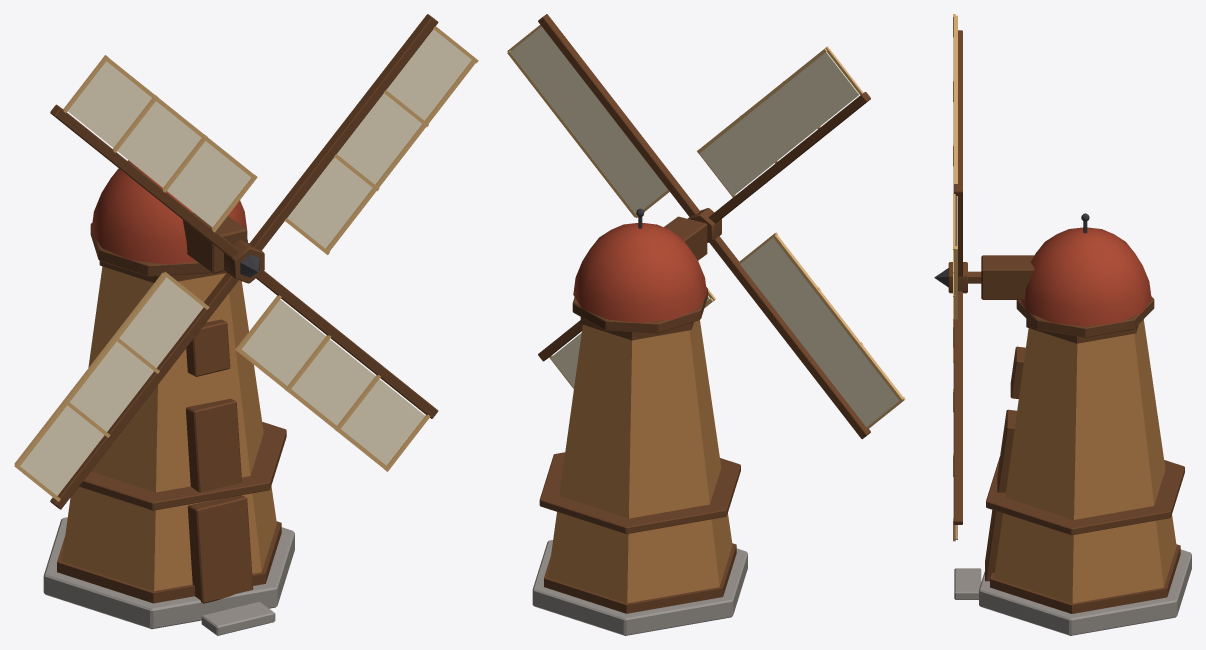
The model's file is gen_windmill.mobile-low.glb.
3 renders of one model, left to right at view 1: azimuth 30°, elevation 25°; view 2: azimuth 150°, elevation 25°; view 3: azimuth 270°, elevation 25°, orthographic. The views are drawn at different scales.
Parts seen in each view (by area): view 1: windmill_sails, gen_windmill; view 2: gen_windmill, windmill_sails; view 3: gen_windmill, windmill_sails.
Boxes of the visible parts, left/top/right/bottom form: windmill_sails: left=14, top=14, right=478, bottom=509; gen_windmill: left=43, top=160, right=294, bottom=635; gen_windmill: left=532, top=208, right=747, bottom=635; windmill_sails: left=507, top=14, right=905, bottom=439; gen_windmill: left=954, top=213, right=1191, bottom=635; windmill_sails: left=934, top=14, right=981, bottom=541.
Bounding box in the file's own units: 11.78 × 14.79 × 6.7.
Materials: 1 (1 with a texture image).
